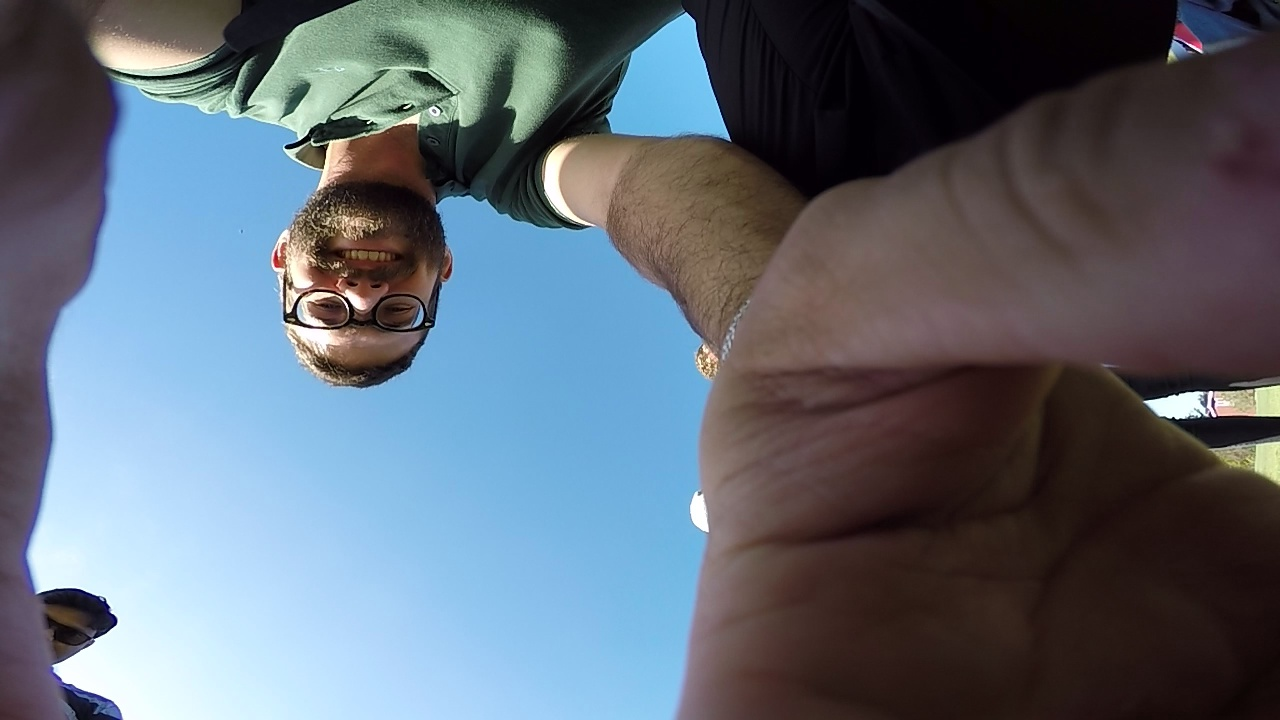person: (258, 50, 1254, 695), (25, 18, 1217, 475), (61, 16, 894, 634), (660, 39, 1269, 674), (470, 20, 1260, 500), (665, 271, 1280, 707), (0, 0, 133, 720)
